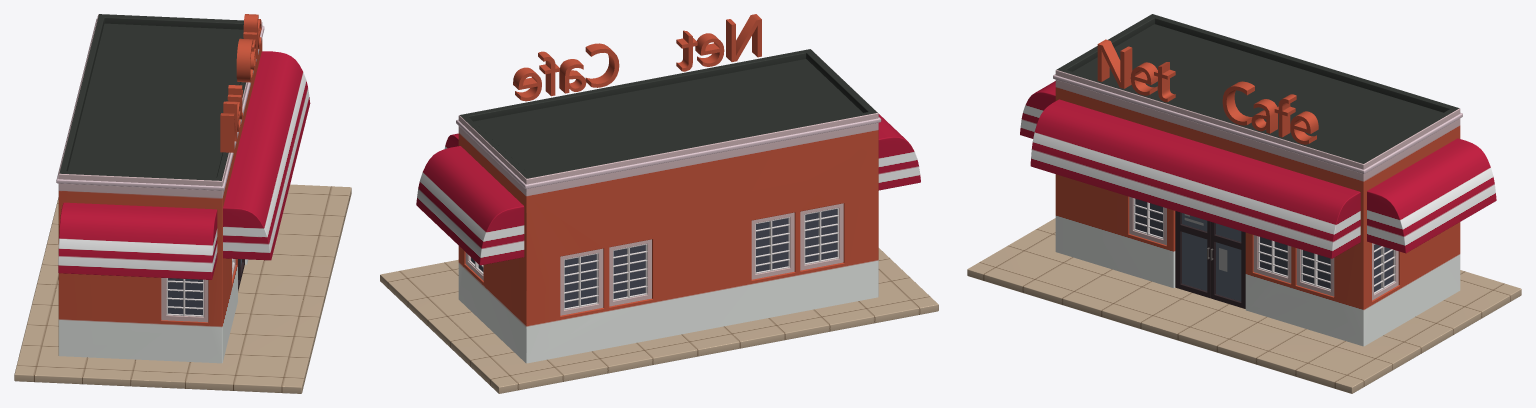
The model's file is net cafe.fbx.
3 renders of one model, left to right at view 1: azimuth 30°, elevation 25°; view 2: azimuth 150°, elevation 25°; view 3: azimuth 270°, elevation 25°, orthographic.
Parts seen in each view (by area): view 1: node_id86, node_id159; view 2: node_id86, node_id159; view 3: node_id86, node_id159.
Boxes of the visible parts, x1=… form: node_id86: x1=14, y1=14, x2=351, y2=393; node_id159: x1=220, y1=14, x2=261, y2=152; node_id86: x1=380, y1=49, x2=938, y2=393; node_id159: x1=513, y1=14, x2=761, y2=101; node_id86: x1=967, y1=14, x2=1521, y2=393; node_id159: x1=1097, y1=39, x2=1318, y2=144.
Bounding box in the file's own units: 1.26 × 0.6322 × 1.36.
2 materials, 2 textured.
